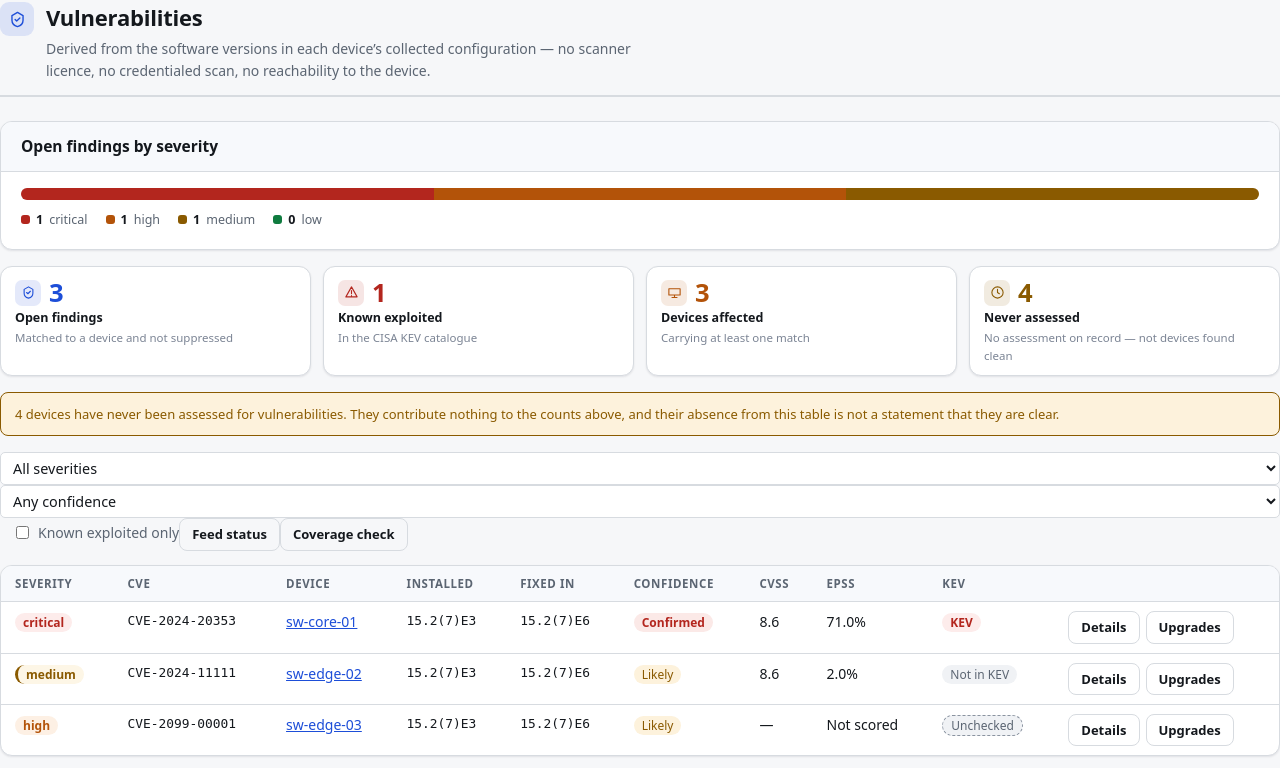
VulnerabilitiesPage › the CVE panel › keeps unevaluated devices in their own section
Check: the link "sw-core-01" is shown, box [286,612,357,631]
Click the button "Details" in the row of "CVE-2024-20353".
click(1104, 627)  # box [1068,611,1140,644]
(page scrolled)
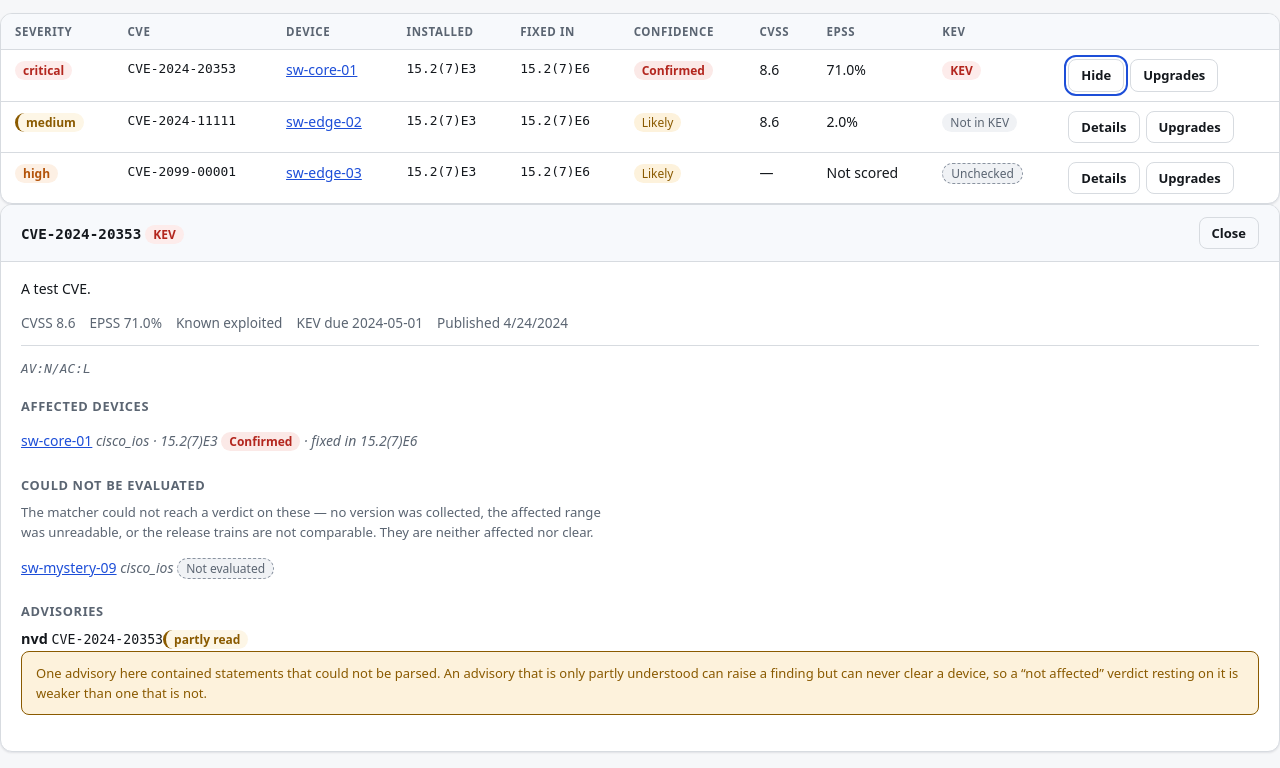
Check: the heading "Could not be evaluated" is shown, box [21,476,205,494]
Check: the link "sw-mystery-09" is shown, box [21,558,117,577]
Check: the text "neither affected nor clear" is shown, box [21,503,601,541]
